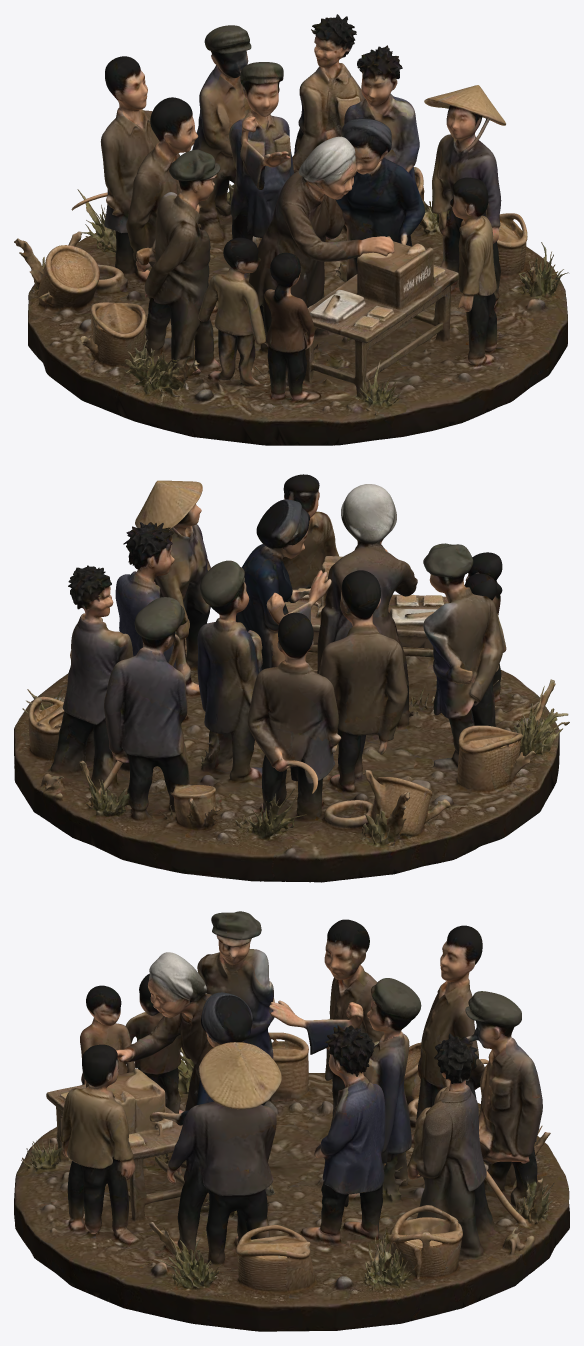
Rendered from Nhân dân làm chủ.glb.
The picture shows the model from 3 angles, top to bottom: view 1: azimuth 30°, elevation 25°; view 2: azimuth 150°, elevation 25°; view 3: azimuth 270°, elevation 25°; orthographic projection. The views are drawn at different scales.
Bounding box in the file's own units: 1.89 × 0.9313 × 1.89.
Materials: 1 (1 with a texture image).
